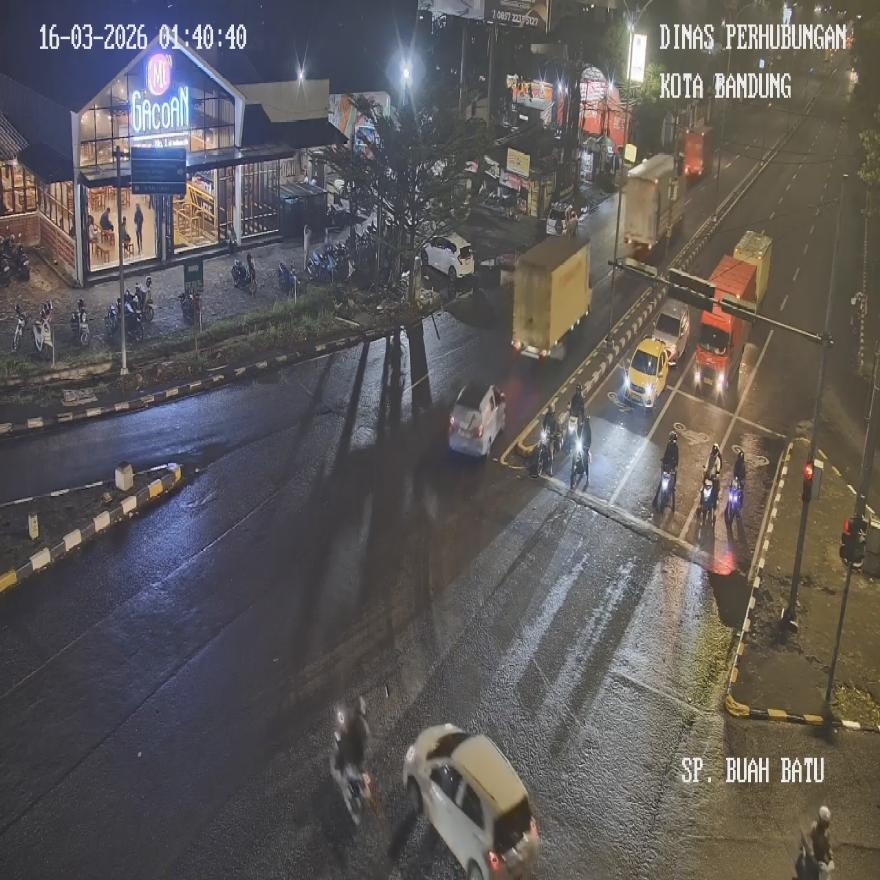Motor: (402, 724, 539, 878), (448, 380, 506, 457), (621, 338, 669, 410), (651, 298, 690, 366), (424, 232, 474, 281)
Truk: (330, 696, 377, 832), (793, 830, 836, 880), (568, 416, 590, 488), (1, 235, 30, 281), (231, 253, 256, 296), (32, 314, 54, 362), (306, 244, 333, 282), (699, 476, 718, 524), (70, 299, 88, 346), (181, 285, 201, 326), (724, 480, 742, 525), (124, 296, 142, 341), (275, 262, 296, 298), (659, 466, 675, 512), (13, 304, 28, 352), (104, 299, 119, 340)
